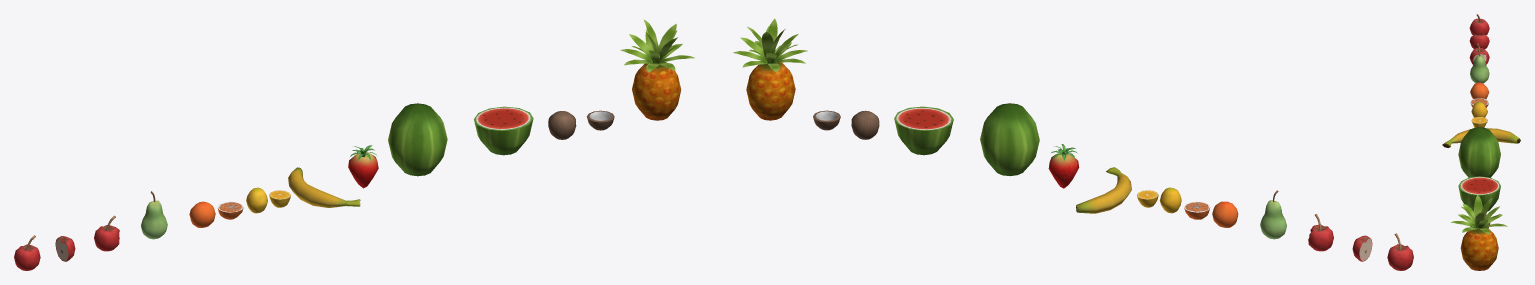
Rendered from Fruits.FBX.
3 renders of one model, left to right at view 1: azimuth 30°, elevation 25°; view 2: azimuth 150°, elevation 25°; view 3: azimuth 270°, elevation 25°, orthographic. The views are drawn at different scales.
Parts seen in each view (by area): view 1: Pineapple, Watermelon, Watermelon_Slice, Banana, Strawberry, Pear, Coconut, Apple_Bitten, Apple, Orange, Lemon, Coconut_Slice (+1 smaller); view 2: Pineapple, Watermelon, Watermelon_Slice, Banana, Strawberry, Pear, Coconut, Apple, Apple_Bitten, Orange, Lemon, Coconut_Slice (+1 smaller); view 3: Pineapple, Watermelon, Watermelon_Slice, Banana, Pear, Apple, Orange, Apple_Slice, Lemon, Apple_Bitten, Lemon_Slice, Orange_Slice.
Part boxes in pixels (x1,y1,x2,y2): Pineapple: (620, 19, 694, 120); Watermelon: (388, 103, 447, 176); Watermelon_Slice: (474, 106, 533, 155); Banana: (288, 167, 360, 207); Strawberry: (348, 145, 378, 188); Pear: (141, 191, 167, 239); Coconut: (548, 111, 576, 139); Apple_Bitten: (94, 215, 119, 251); Apple: (14, 235, 40, 270); Orange: (189, 201, 215, 227); Lemon: (246, 187, 267, 213); Coconut_Slice: (586, 110, 614, 130); Pineapple: (733, 18, 807, 120); Watermelon: (980, 103, 1039, 175); Watermelon_Slice: (894, 106, 953, 155); Banana: (1076, 167, 1131, 213); Strawberry: (1048, 144, 1079, 188); Pear: (1260, 190, 1286, 239); Coconut: (851, 110, 879, 139); Apple: (1387, 233, 1413, 270); Apple_Bitten: (1308, 214, 1333, 251); Orange: (1212, 201, 1238, 227); Lemon: (1160, 187, 1181, 213); Coconut_Slice: (813, 110, 840, 130); Pineapple: (1450, 195, 1507, 270); Watermelon: (1458, 127, 1500, 177); Watermelon_Slice: (1458, 176, 1500, 212); Banana: (1442, 128, 1520, 147); Pear: (1470, 46, 1489, 83); Apple: (1469, 14, 1489, 35); Orange: (1470, 82, 1489, 98); Apple_Slice: (1469, 34, 1489, 48); Lemon: (1471, 102, 1487, 117); Apple_Bitten: (1469, 43, 1489, 64); Lemon_Slice: (1471, 117, 1487, 127); Orange_Slice: (1470, 98, 1489, 107).
Bounding box in the file's own units: 569 × 76.84 × 76.49.
